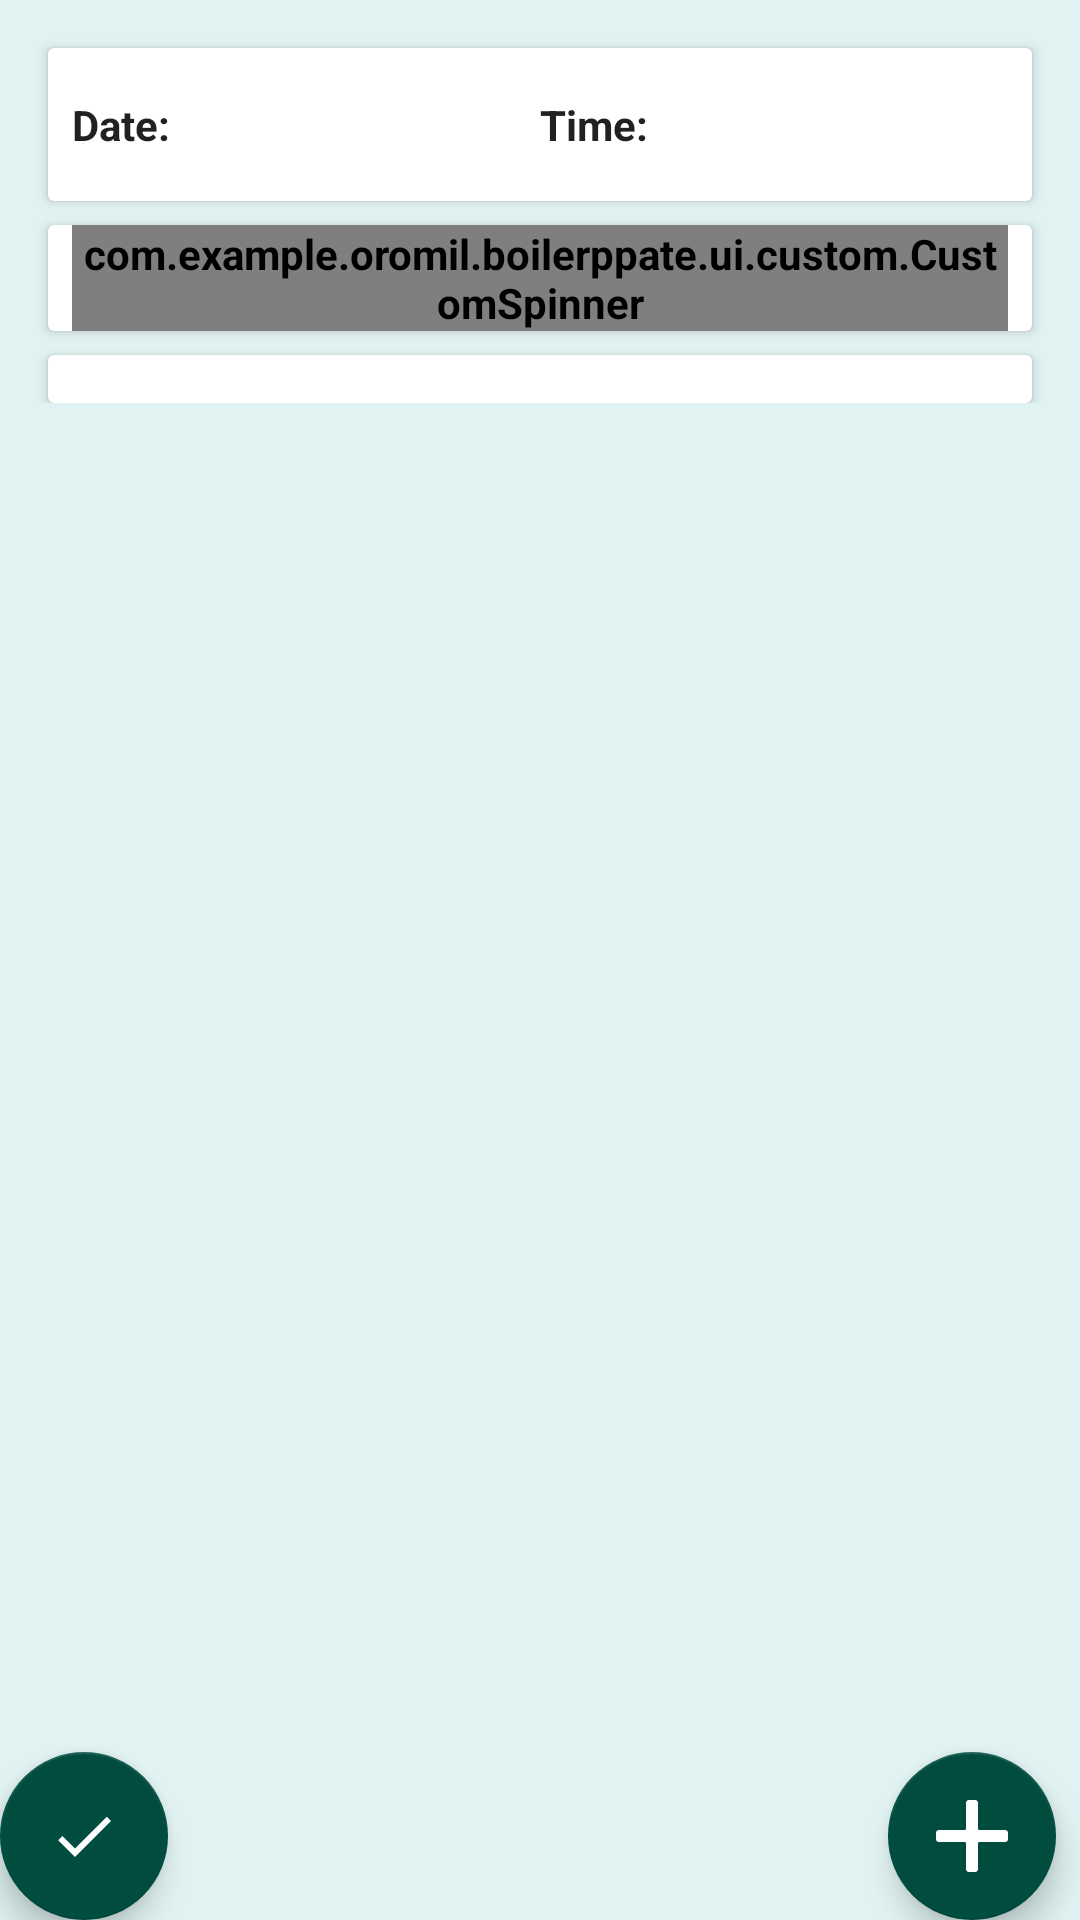

Icon bounding boxes for this 1080 x 1920 phone screenshot, format detection(x1, y1, x2, y2):
plus: detection(888, 1752, 1056, 1920)
